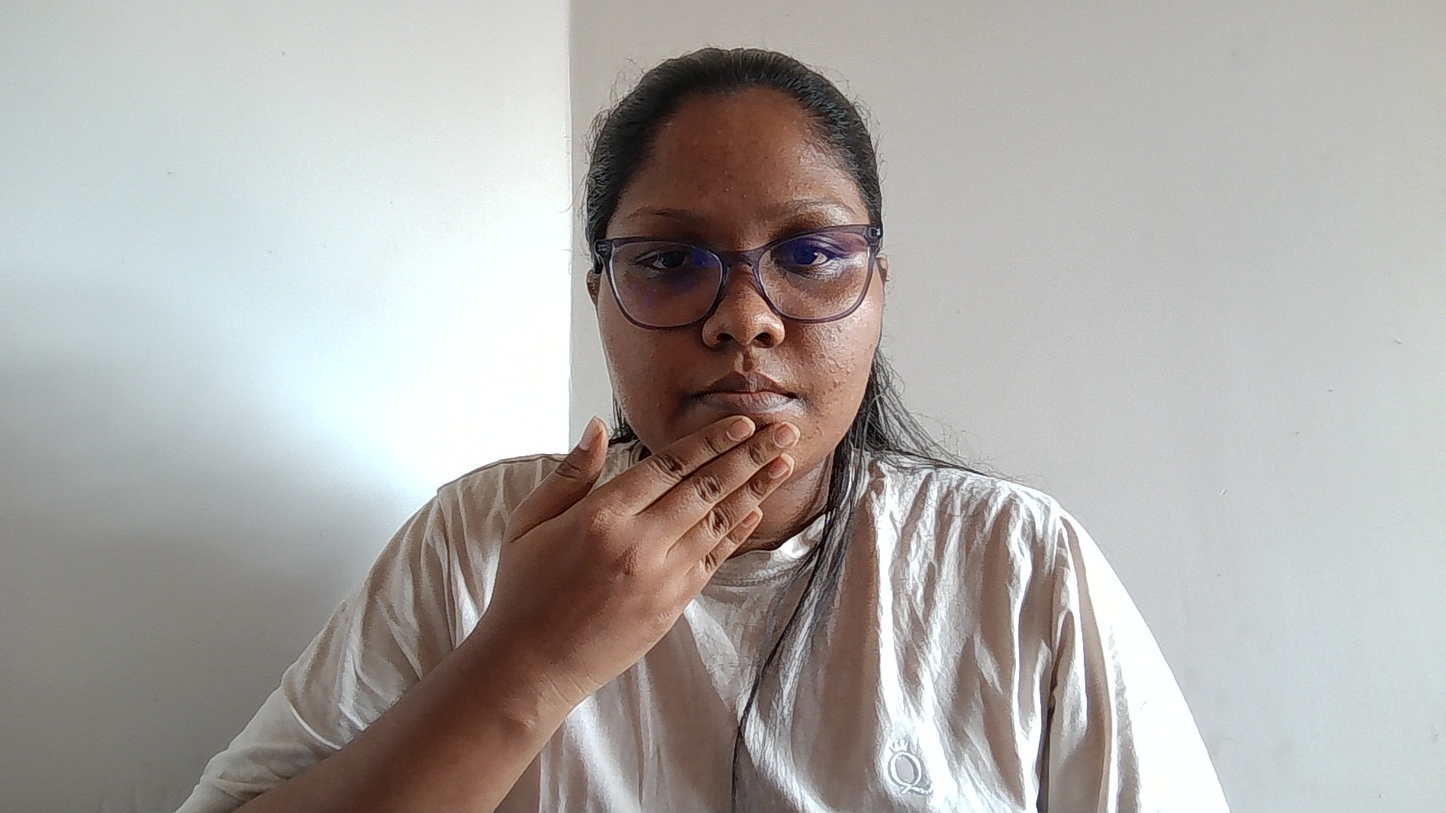Thank You: (450, 392, 1022, 760)
